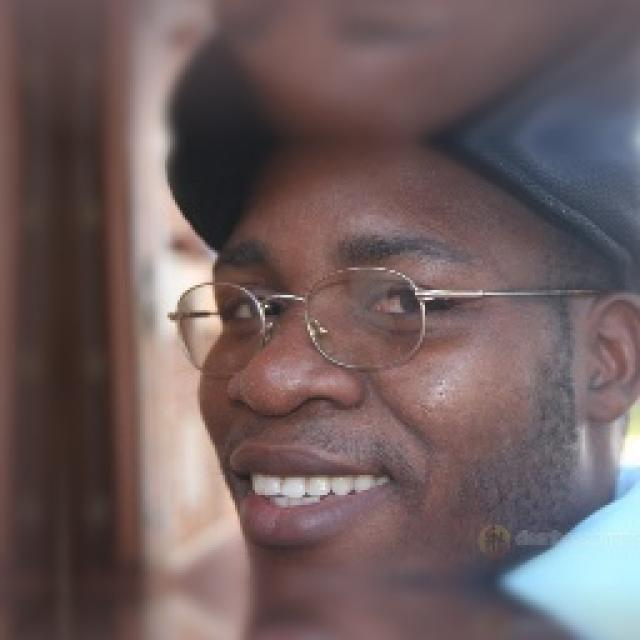glasses: (142, 252, 610, 376)
